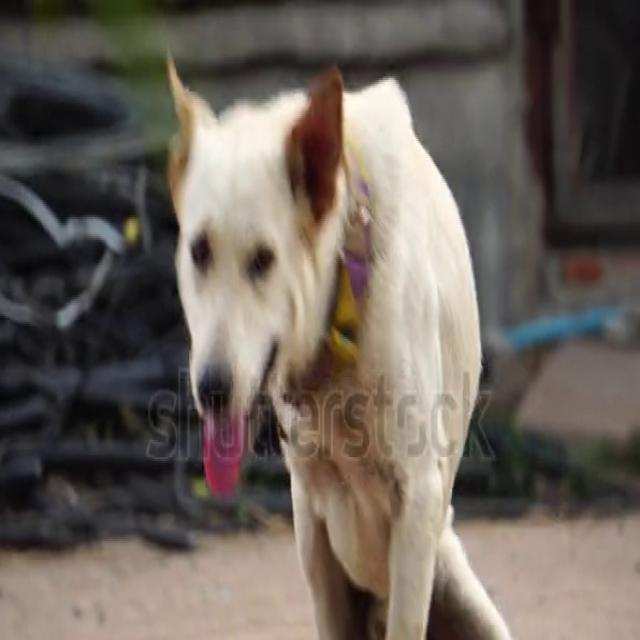injured-animals: (158, 48, 535, 638)
